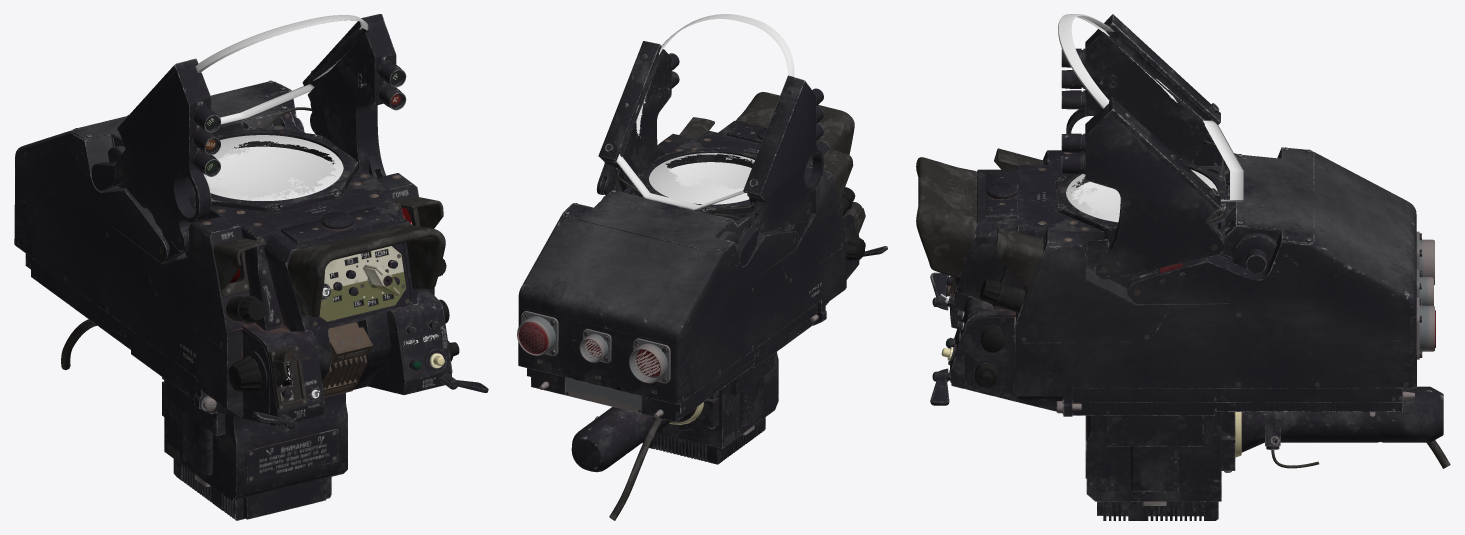
The model's file is cockpit-demo-noncommercial.fbx.
3 renders of one model, left to right at view 1: azimuth 30°, elevation 25°; view 2: azimuth 150°, elevation 25°; view 3: azimuth 270°, elevation 25°, orthographic. The views are drawn at different scales.
Parts seen in each view (by area): view 1: Main; view 2: Main; view 3: Main.
Boxes of the visible parts, left/top/right/bottom form: Main: left=14, top=14, right=488, bottom=520; Main: left=517, top=14, right=887, bottom=520; Main: left=916, top=14, right=1450, bottom=520.
Size of the model in its own units: 91.48 by 191 by 196.
